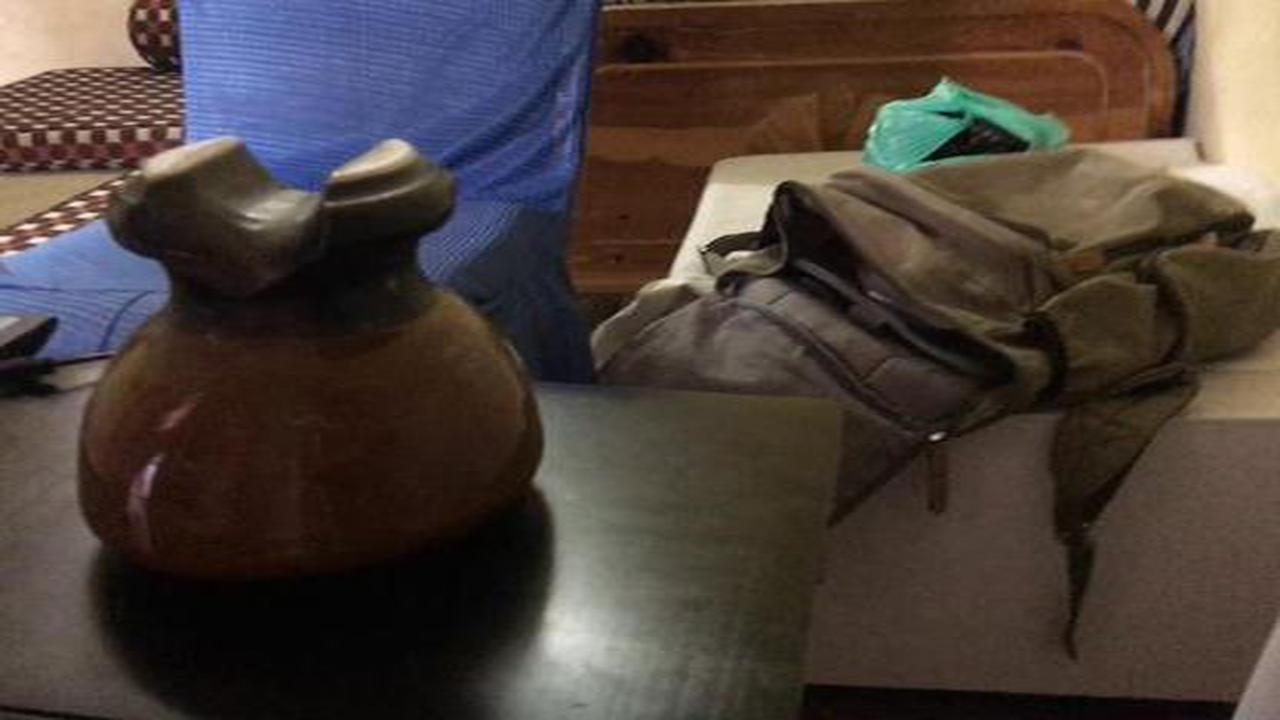insulator_pin: (63, 130, 548, 582)
